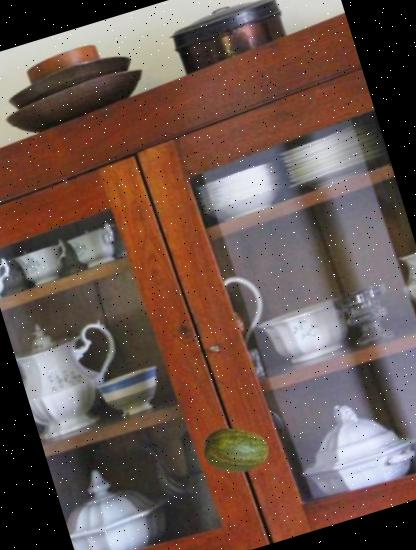Melon: (196, 406, 278, 488)
